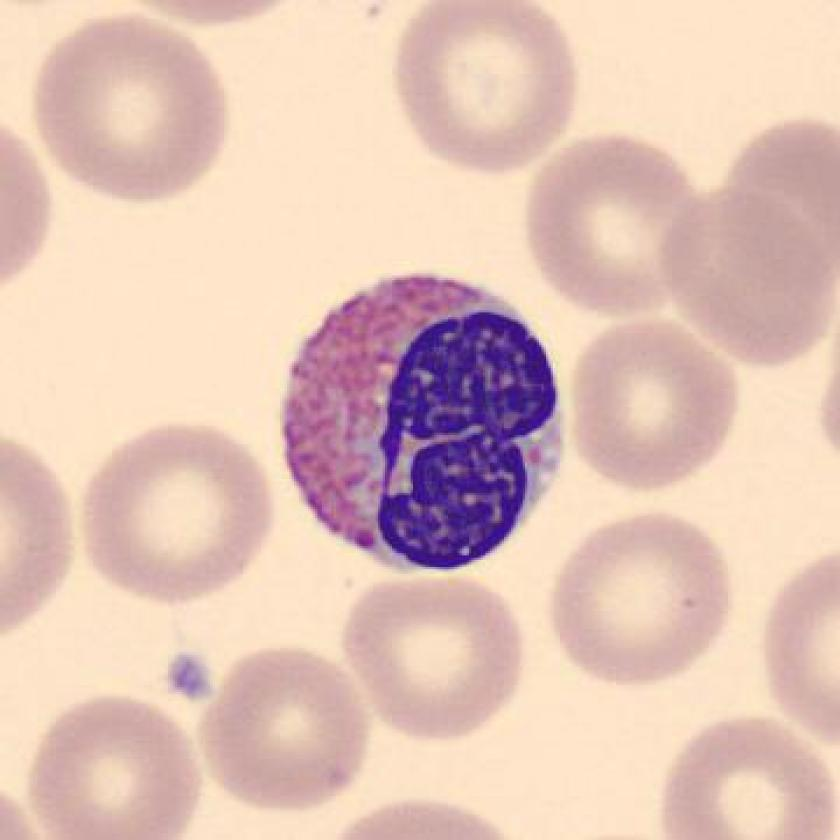eosinophil: (267, 263, 582, 580)
